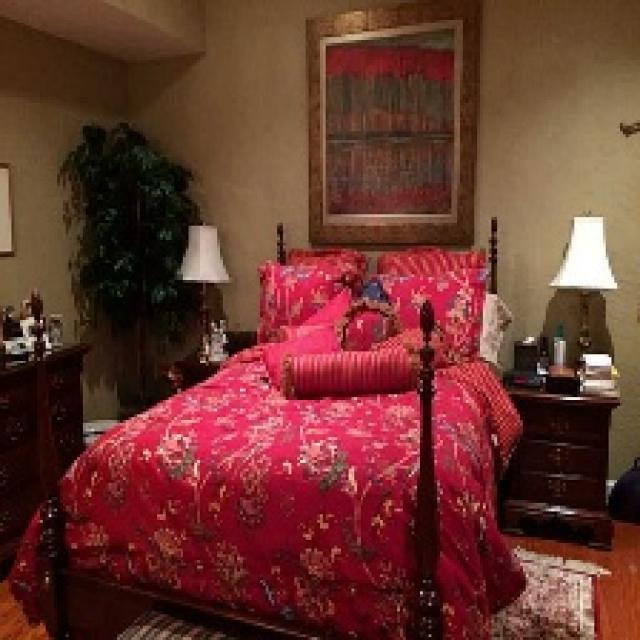Bed: (8, 214, 526, 637)
